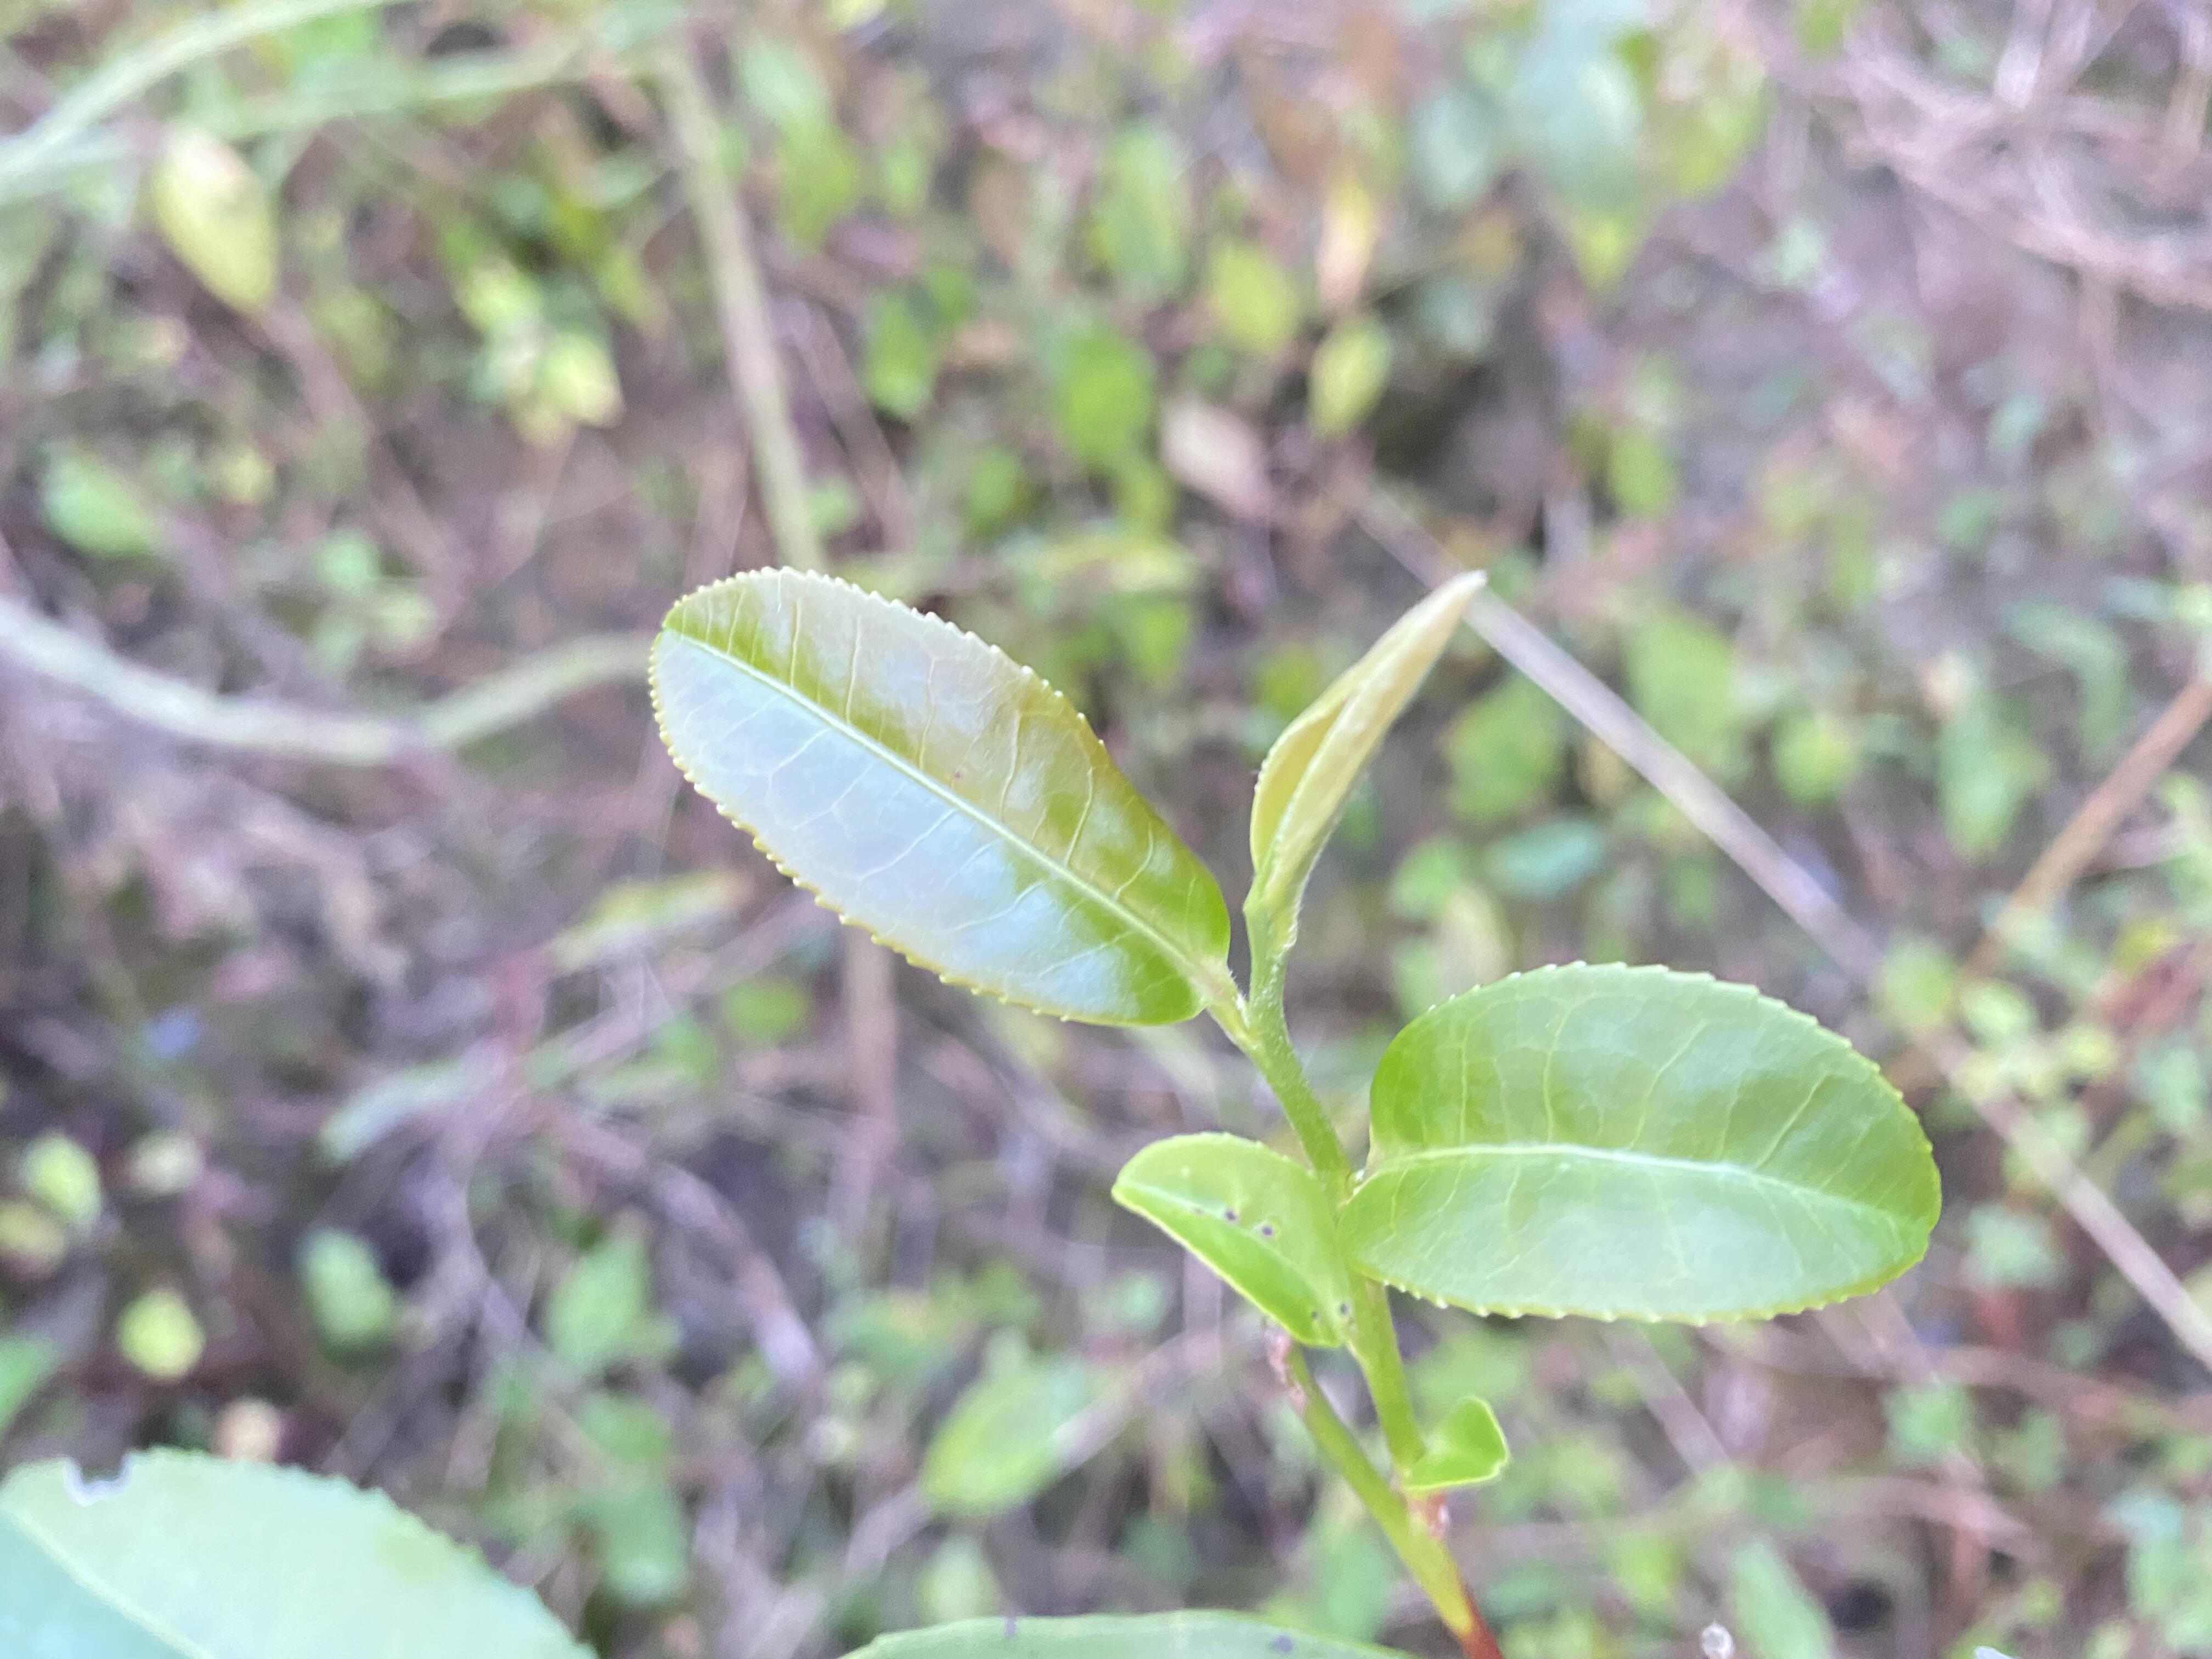healthy: (644, 565, 1235, 1028), (1339, 960, 1946, 1324)
tanju_low: (1109, 1129, 1360, 1345)
